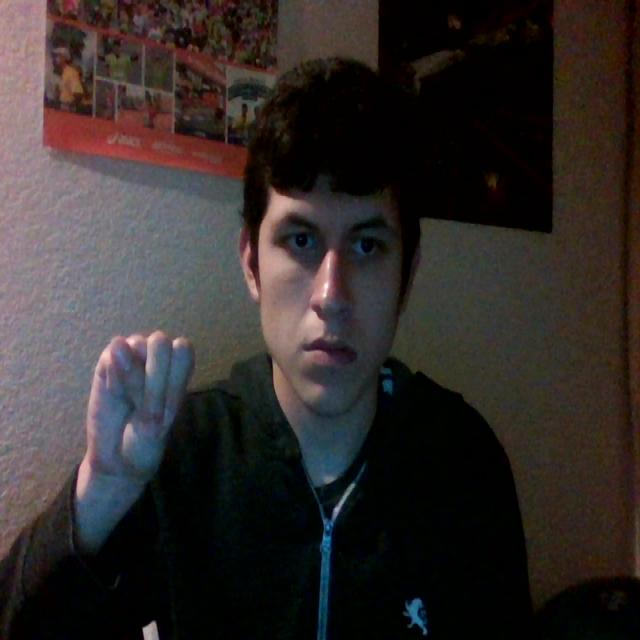N: (43, 302, 202, 540)
